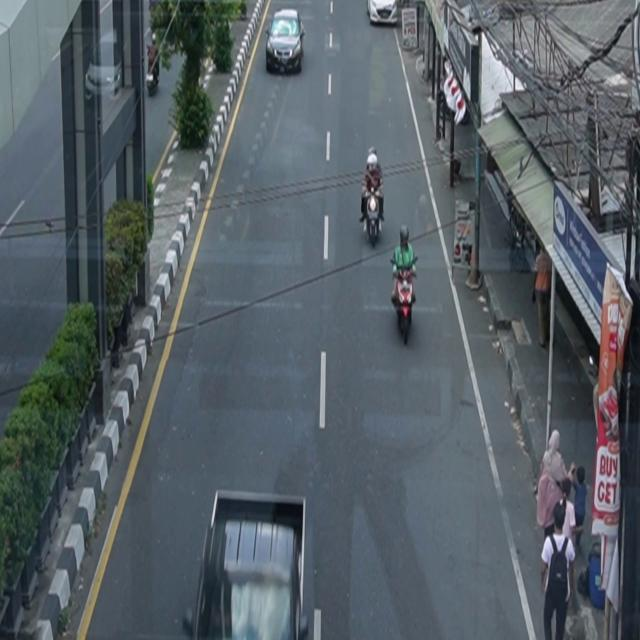bus: (183, 489, 315, 640)
car: (266, 9, 306, 75), (367, 1, 398, 26)
